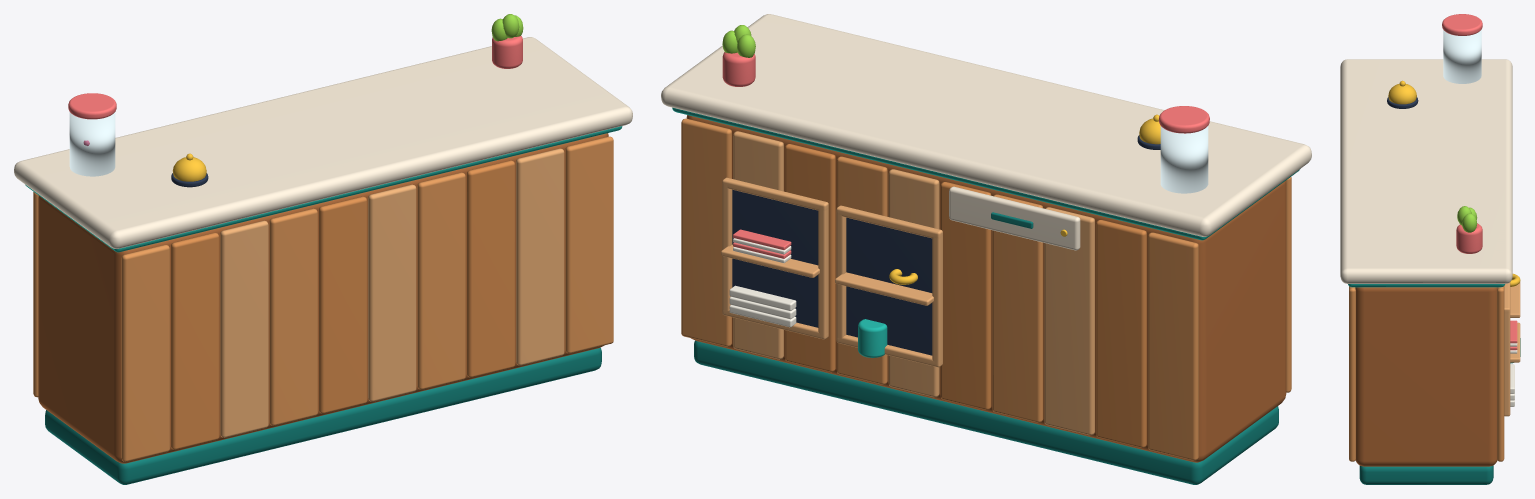
The model's file is Counter.fbx.
3 views of the same model, side by side, from view 1: azimuth 30°, elevation 25°; view 2: azimuth 150°, elevation 25°; view 3: azimuth 270°, elevation 25° (orthographic). The views are drawn at different scales.
Visible parts, largest first — view 1: Counter mesh; view 2: Counter mesh; view 3: Counter mesh.
Part boxes in pixels (box(x1,y1,x2,y2)): Counter mesh: box(14, 14, 632, 484); Counter mesh: box(661, 14, 1311, 484); Counter mesh: box(1340, 14, 1520, 484).
Size of the model in its own units: 2.12 by 1.29 by 0.753.
